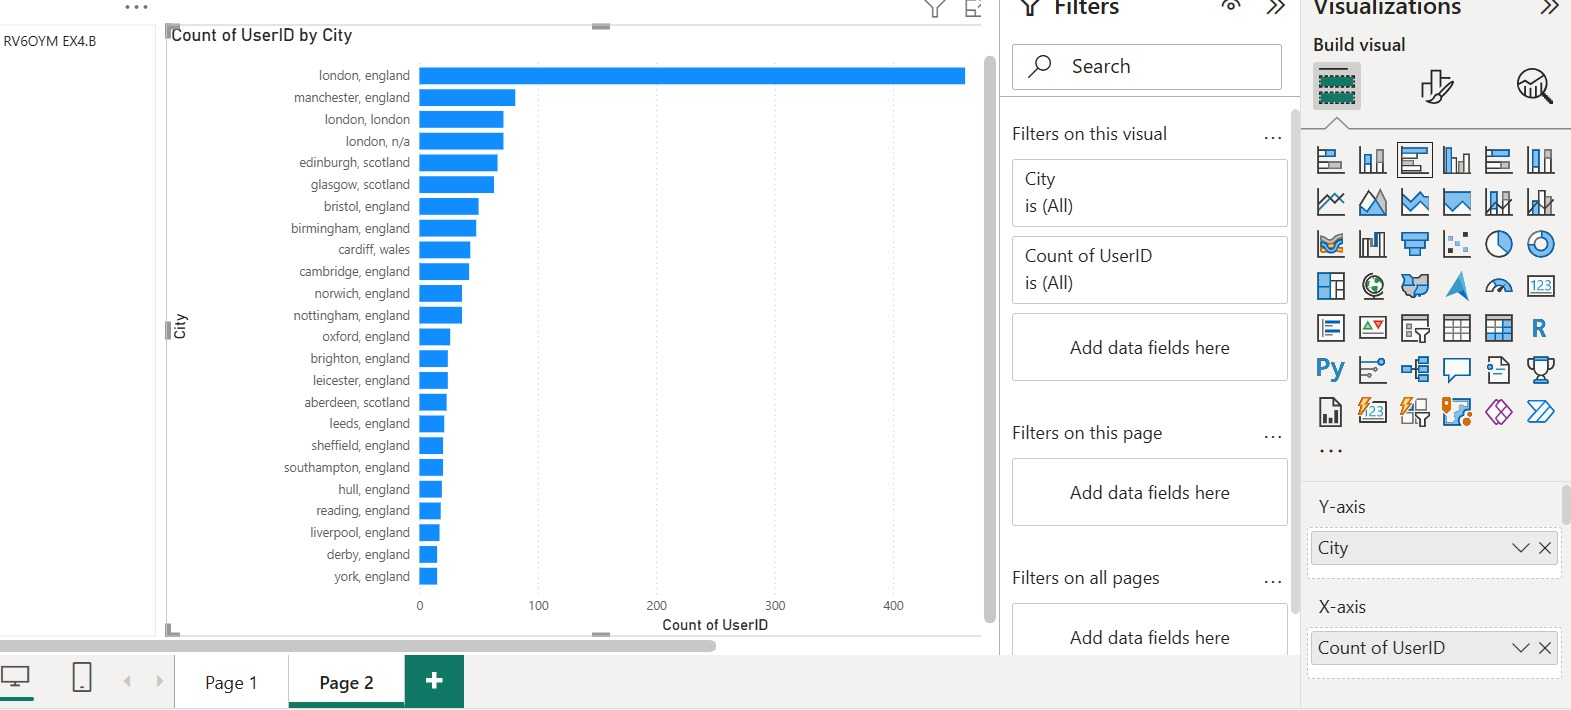

Layout of this report page (visuals, bound fields, positions):
{"tool":"powerbi","page":{"name":"Page 2","canvas":[1280,720],"ordinal":1},"visuals":[{"type":"clusteredBarChart","fields":{"Category":["BXUser.City"],"Y":["CountNonNull(BXUser.UserID)"]},"box":[9.4,0,1118.7,686],"z":0},{"type":"actionButton","box":[0,0,100,40],"z":1}]}

Visuals, with their boxes on the page's 1280x720 design canvas (x1, y1, x2, y2). These are canvas units, not pixel positions in the 1571x710 screenshot, which may show the page scaled, cropped or inside an application window:
clusteredBarChart - BXUser.City x CountNonNull(BXUser.UserID): locate(9, 0, 1128, 686)
actionButton: locate(0, 0, 100, 40)
